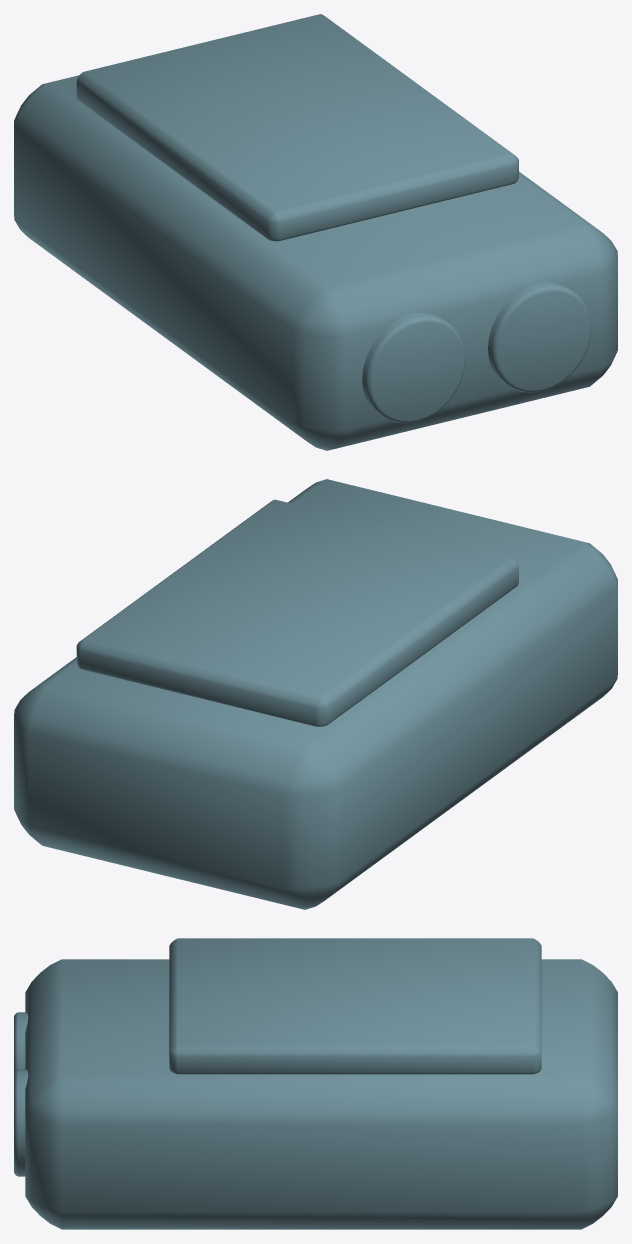
Rendered from EngineNacelle.fbx.
3 renders of one model, top to bottom at view 1: azimuth 30°, elevation 25°; view 2: azimuth 150°, elevation 25°; view 3: azimuth 270°, elevation 25°, orthographic. The views are drawn at different scales.
Parts seen in each view (by area): view 1: Render_LOD0; view 2: Render_LOD0; view 3: Render_LOD0.
Boxes of the visible parts, x1=… form: Render_LOD0: x1=14, y1=14, x2=617, y2=450; Render_LOD0: x1=14, y1=479, x2=617, y2=909; Render_LOD0: x1=14, y1=938, x2=617, y2=1229.
Size of what is drawn, in the model's own units: 1.24 by 0.7 by 2.14.
